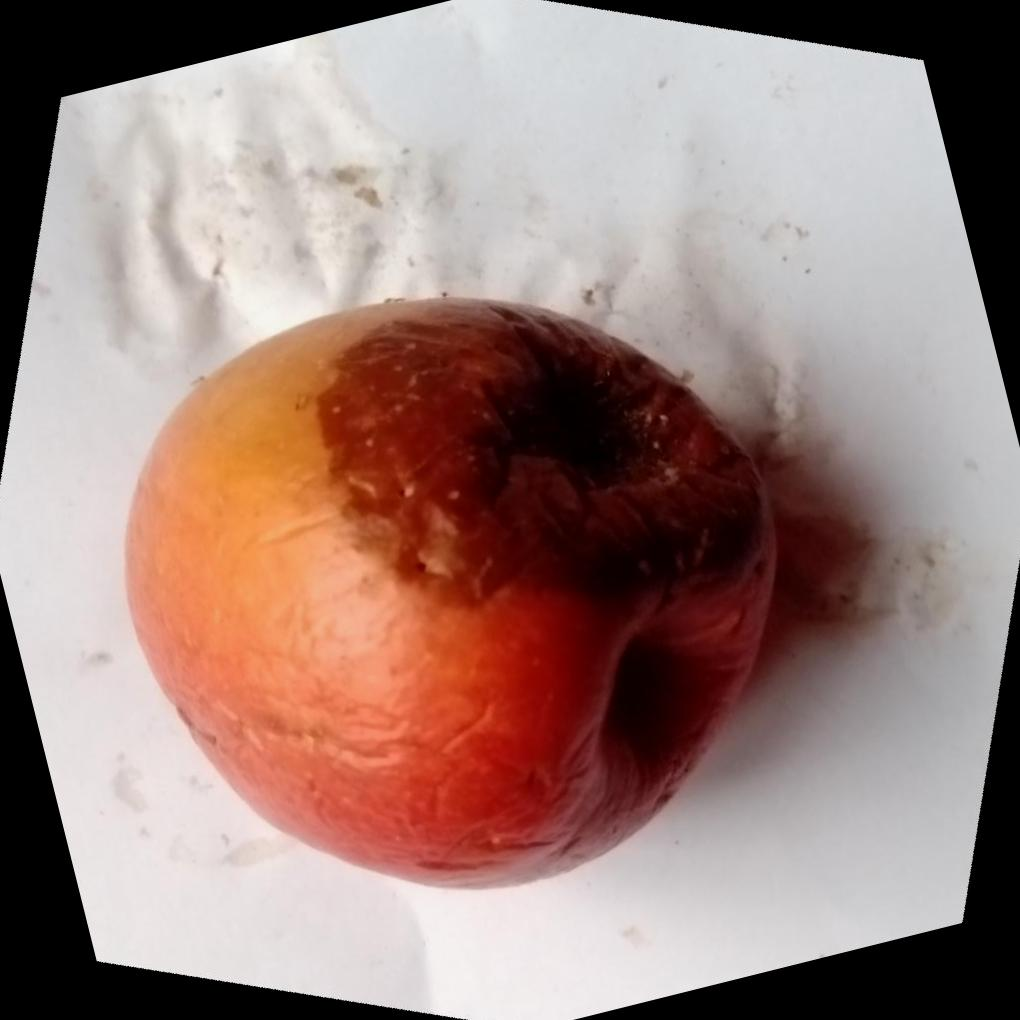FreshOrange: (126, 293, 786, 889)
